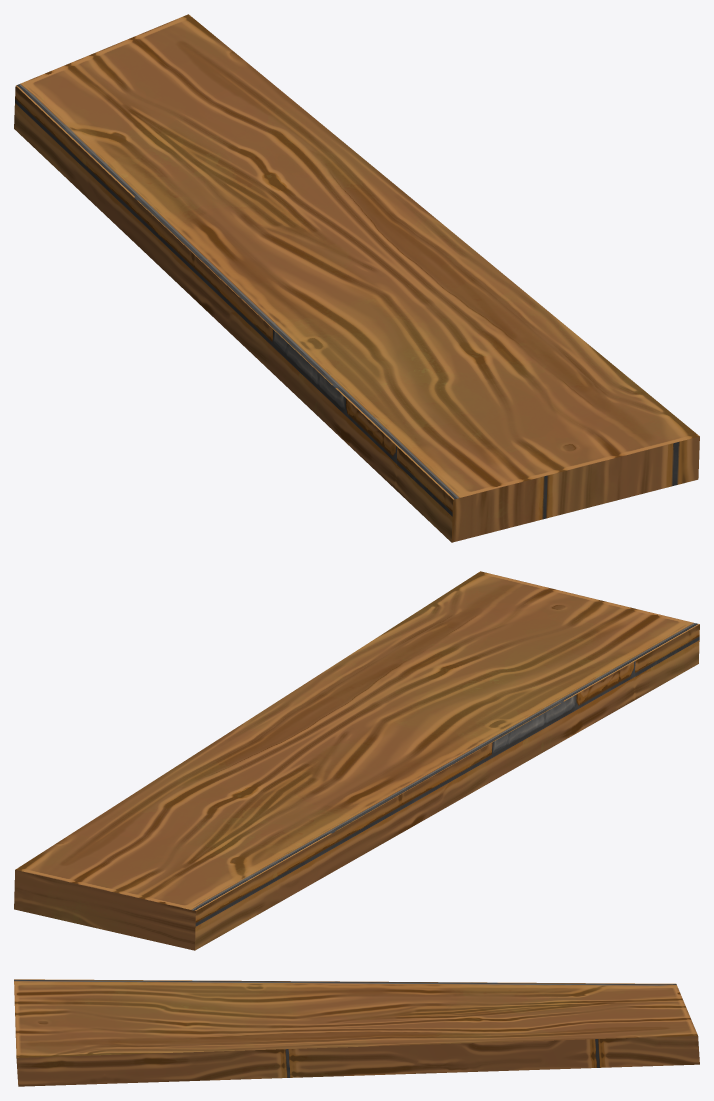
3 renders of one model, top to bottom at view 1: azimuth 30°, elevation 25°; view 2: azimuth 150°, elevation 25°; view 3: azimuth 270°, elevation 25°, orthographic. The views are drawn at different scales.
Parts seen in each view (by area): view 1: Cube.490; view 2: Cube.490; view 3: Cube.490.
Boxes of the visible parts, x1,y1,x2,y2 form: Cube.490: [14, 14, 699, 542]; Cube.490: [14, 571, 699, 950]; Cube.490: [14, 979, 699, 1086].
Size of the model in its own units: 65.48 by 20.27 by 230.
Materials: 1 (1 with a texture image).
